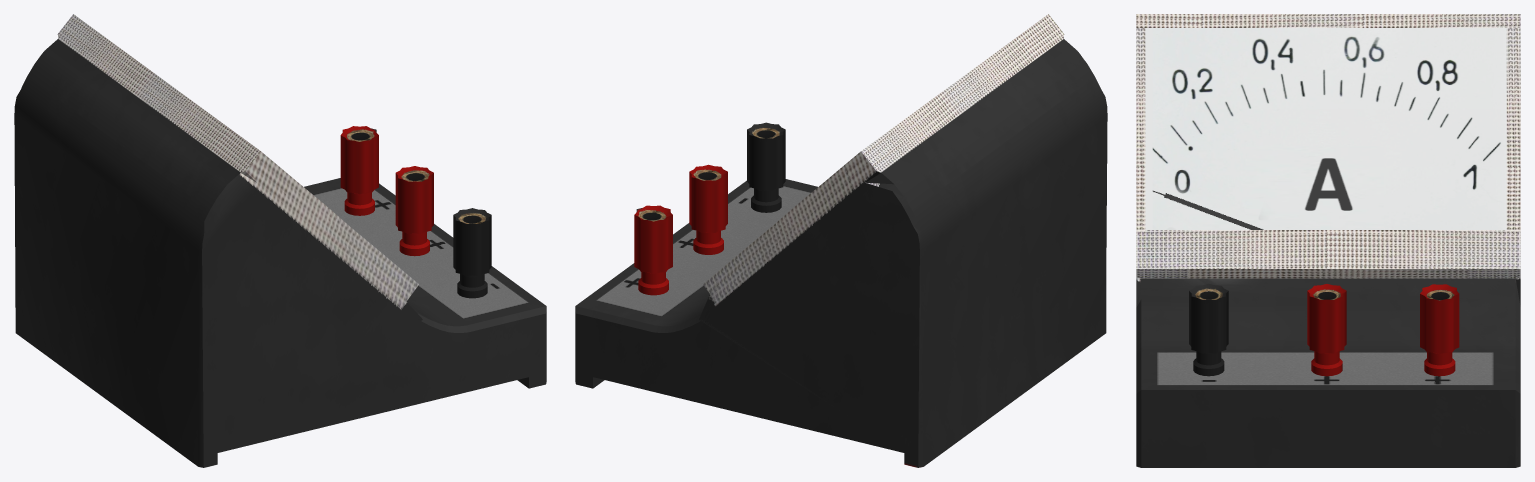
File: Electro04.FBX
3 views of the same model, side by side, from view 1: azimuth 30°, elevation 25°; view 2: azimuth 150°, elevation 25°; view 3: azimuth 270°, elevation 25° (orthographic). The views are drawn at different scales.
Visible parts, largest first — view 1: Electro04; view 2: Electro04; view 3: Electro04.
Boxes of the visible parts, x1,y1,x2,y2 form: Electro04: (14, 14, 546, 467); Electro04: (575, 14, 1107, 467); Electro04: (1136, 14, 1520, 467).
Size of the model in its own units: 57.55 by 47.81 by 53.72.
